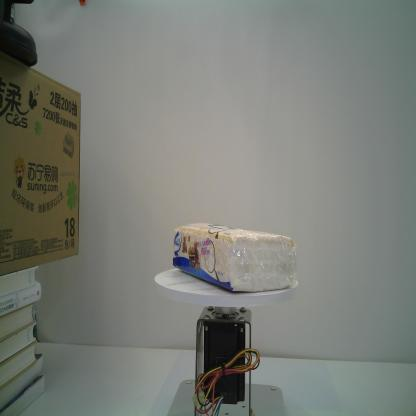Tissue: (172, 221, 298, 292)
